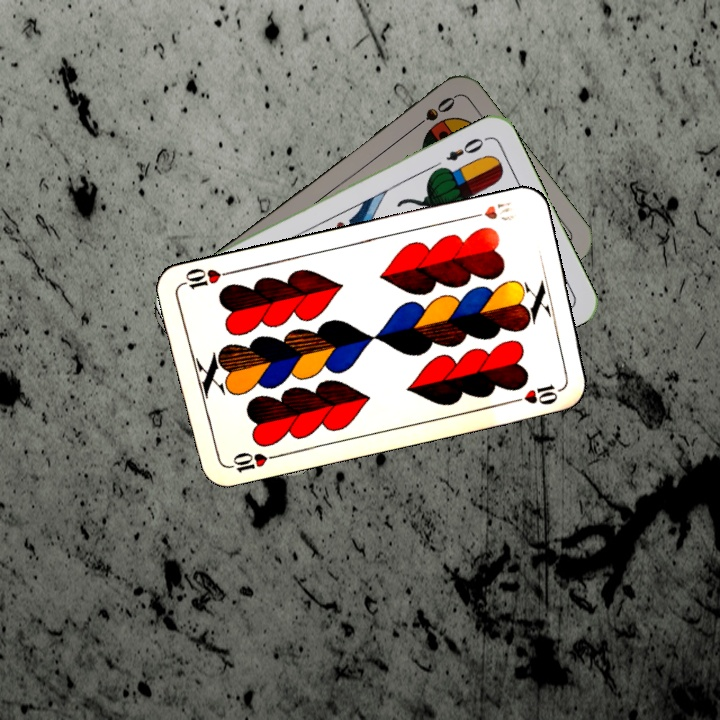EO: (442, 133, 491, 164)
H10: (222, 448, 281, 475), (463, 197, 520, 224)
SO: (407, 92, 458, 134)
